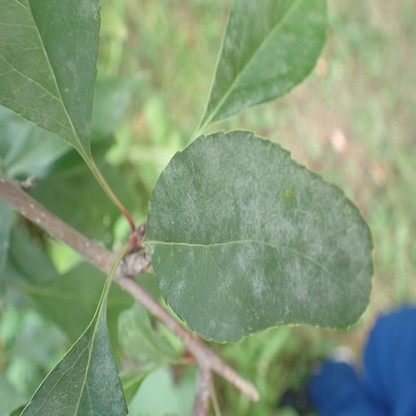powder: (145, 130, 375, 345), (202, 0, 323, 128), (0, 1, 101, 138), (26, 310, 129, 415)
